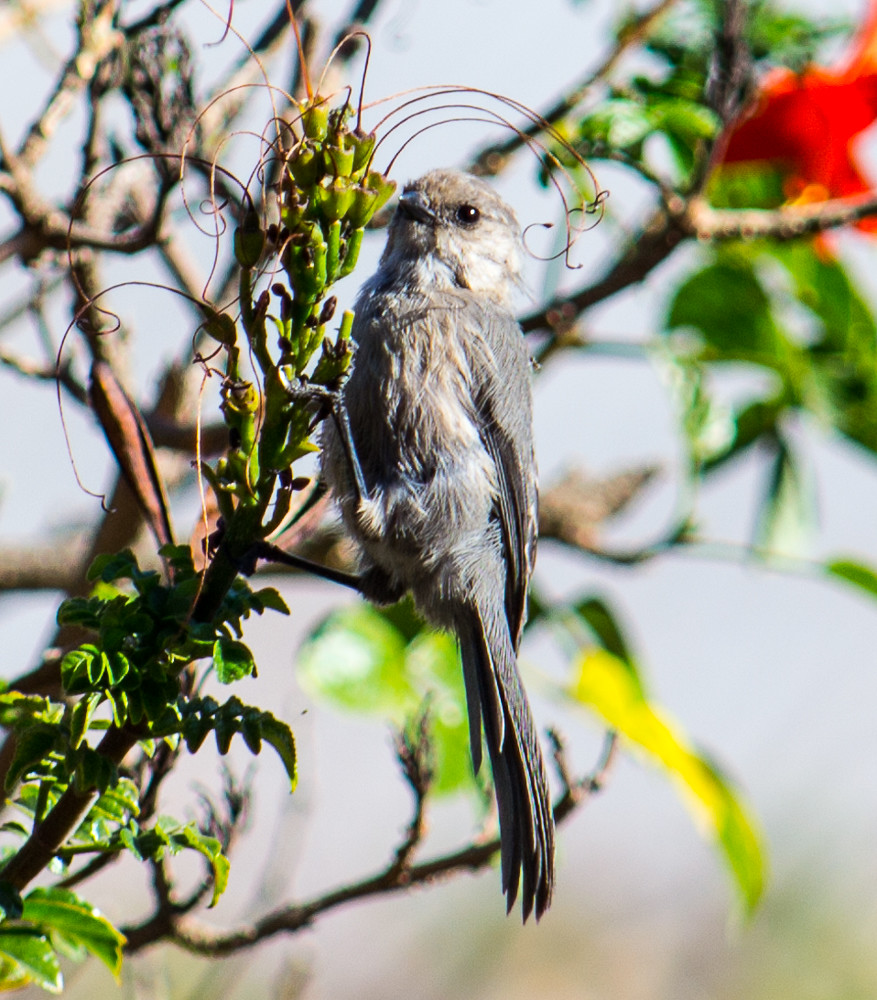bird: (326, 161, 558, 921)
